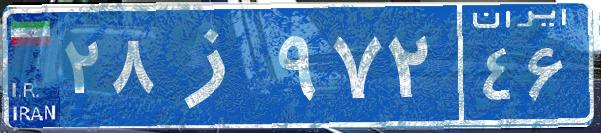2: (385, 28, 445, 110), (57, 26, 110, 107)
4: (475, 38, 525, 113)
6: (525, 38, 570, 115)
7: (330, 28, 385, 110)
8: (110, 28, 158, 105)
9: (273, 28, 330, 110)
ز: (158, 15, 273, 115)
